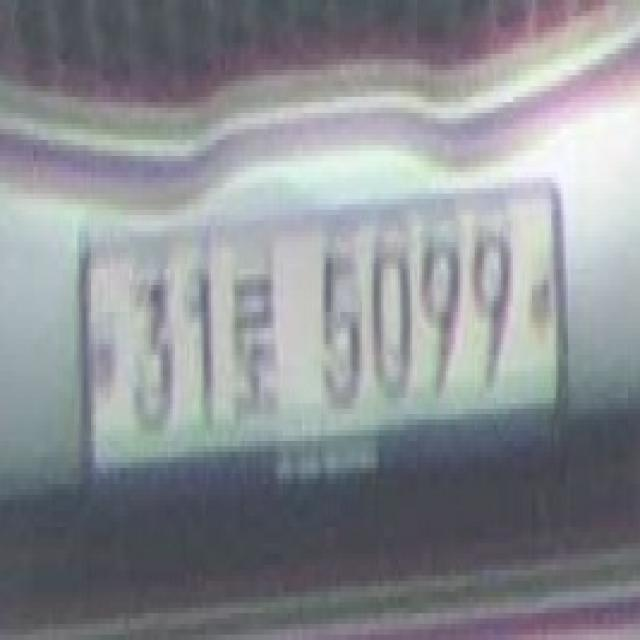0: (369, 231, 412, 409)
1: (184, 264, 223, 436)
3: (130, 269, 178, 441)
5: (316, 248, 364, 414)
9: (417, 237, 463, 398), (470, 226, 513, 387)
license_plate: (84, 183, 566, 500)
lo: (230, 263, 278, 425)
